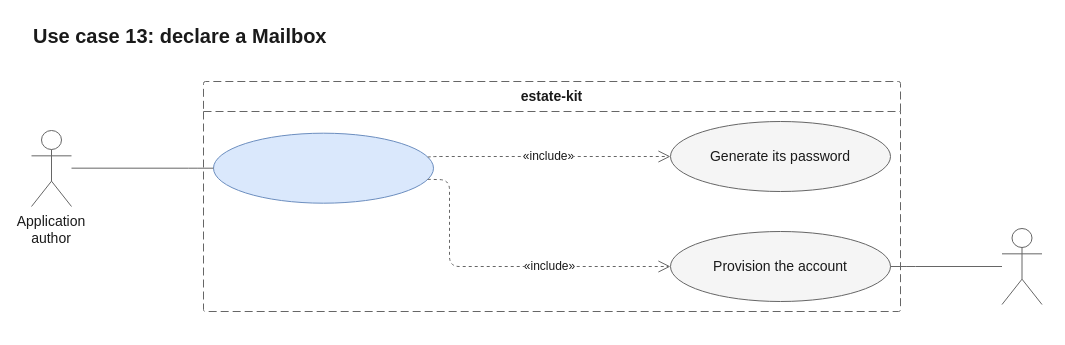
Some shapes in this 1065 by 345 pixel diagram are drawn without their labels. Here are the shapes that lost their labels. From the top down, the centre of each, then its label:
(323,167): Declare a Mailbox
(1021,266): Stalwart
